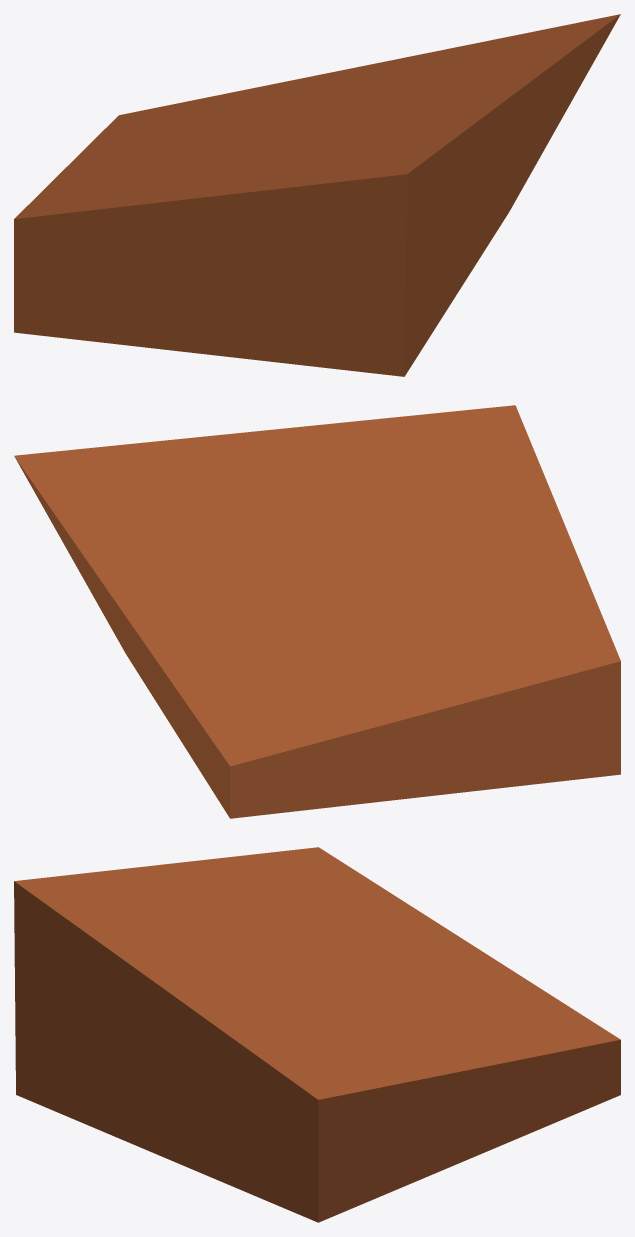
File: fbx_small_rock.fbx
3 views of the same model, one above another, from view 1: azimuth 30°, elevation 25°; view 2: azimuth 150°, elevation 25°; view 3: azimuth 270°, elevation 25° (orthographic). The views are drawn at different scales.
Parts seen in each view (by area): view 1: Cube.010; view 2: Cube.010; view 3: Cube.010.
Boxes of the visible parts, left/top/right/bottom form: Cube.010: left=14, top=14, right=620, bottom=376; Cube.010: left=14, top=405, right=620, bottom=818; Cube.010: left=14, top=847, right=620, bottom=1222.
Bounding box in the file's own units: 96.76 × 30.93 × 79.24.
